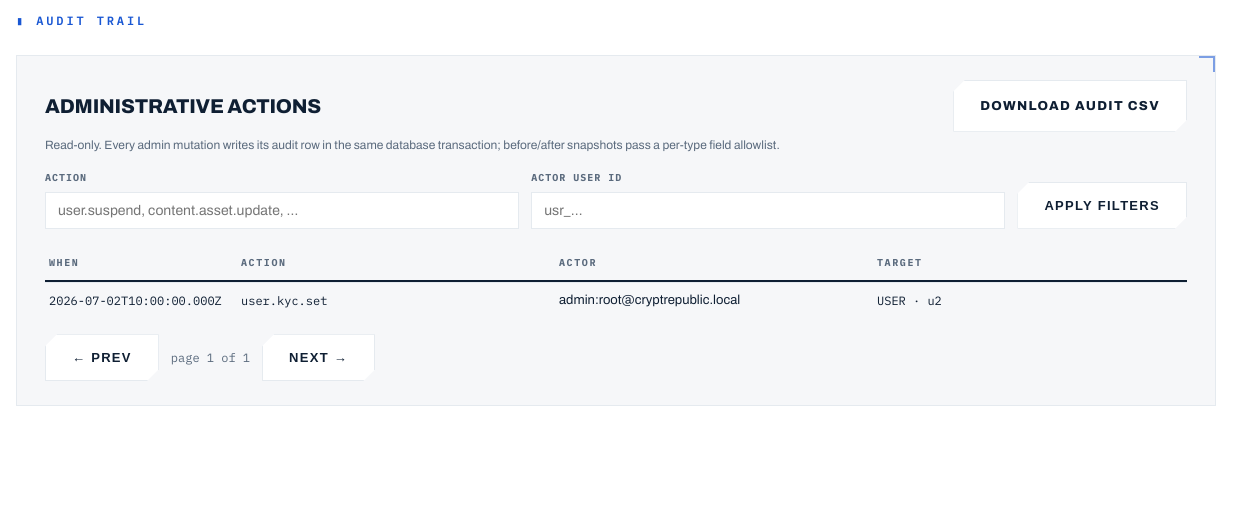
Test: AuditViewer › expands a row to the parsed before/after JSON
Click the button "user.kyc.set": x=616, y=301 top-left (45, 283), bottom-right (1187, 318)
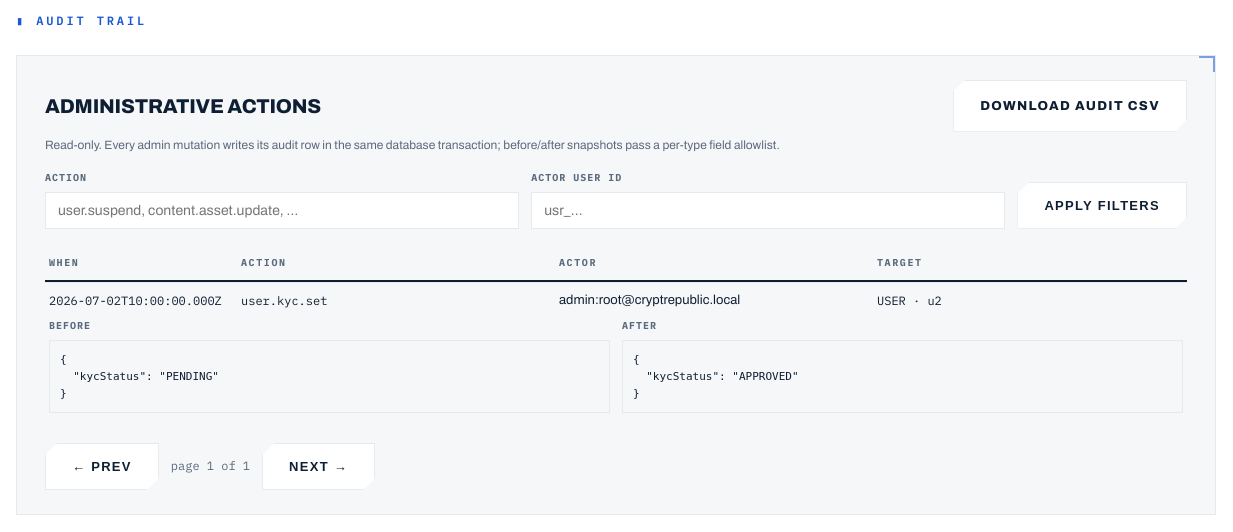
Check: the text "{ \"kycStatus\": \"PENDING\" }" is shown, box top-left (49, 340), bottom-right (610, 413)
Check: the text with test id "audit-before" reads "{ \"kycStatus\": \"PENDING\" }", box top-left (60, 353), bottom-right (219, 400)
Check: the text with test id "audit-after" reads "{ \"kycStatus\": \"APPROVED\" }", box top-left (633, 353), bottom-right (799, 400)
